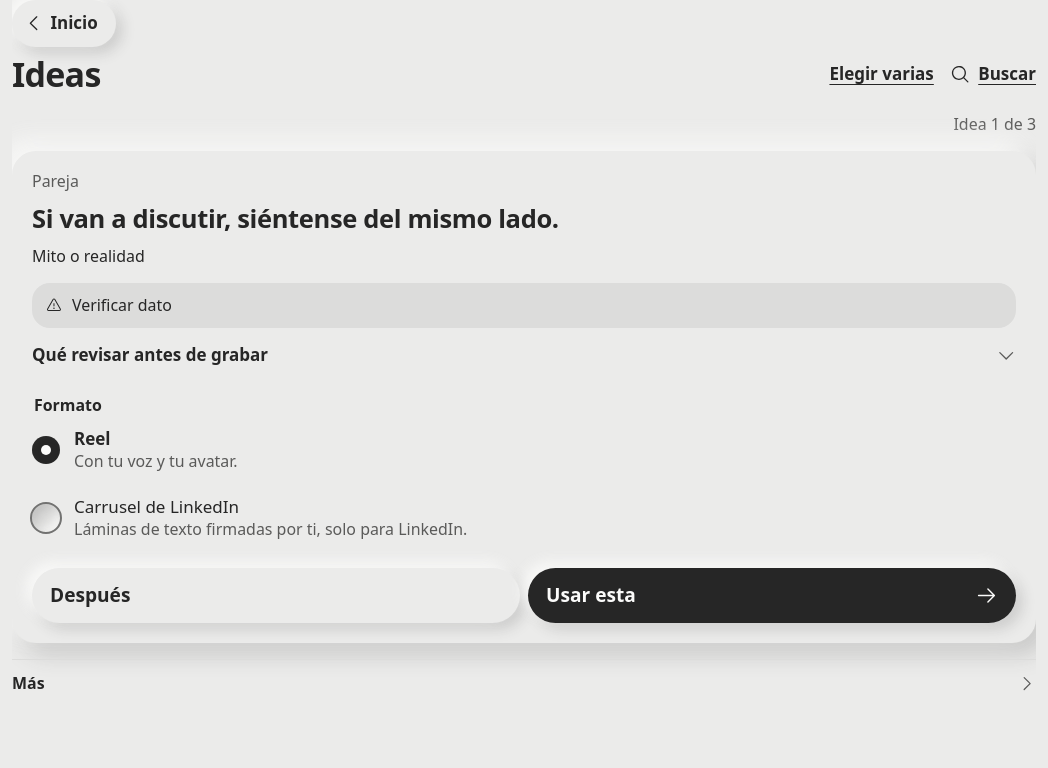
Test: BancoDeIdeas: una idea a la vez › explains each alert so she knows what to check before recording
What coordinates should you click on to do the following:
click the heading "Qué revisar antes de grabar"
I would click on:
 (150, 355)
Its box is [32,343,1016,366].
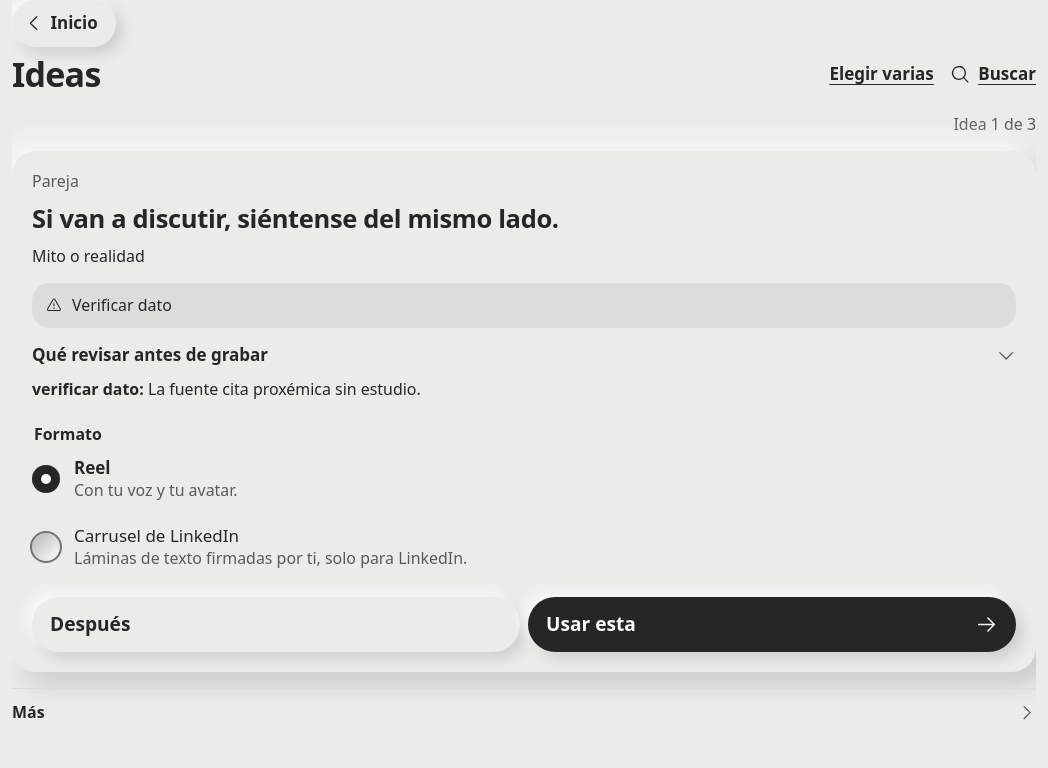
Result: the list item "La fuente cita proxémica sin estudio." is shown at [148,378,421,400]
